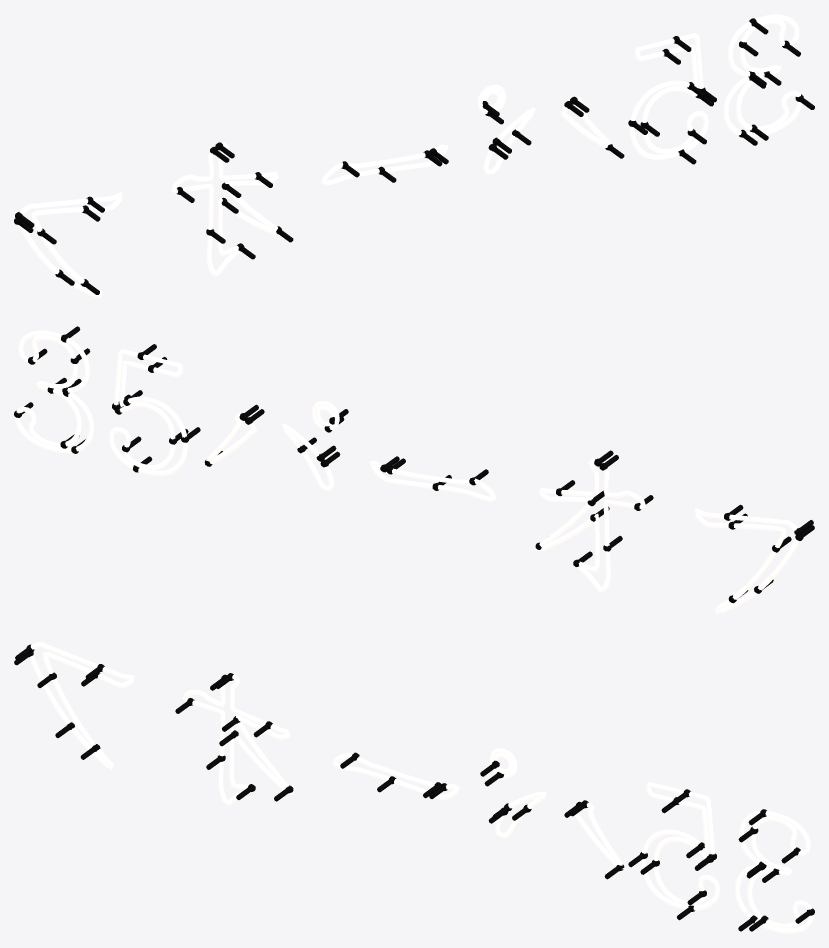
Rendered from neon_35off.fbx.
3 renders of one model, top to bottom at view 1: azimuth 30°, elevation 25°; view 2: azimuth 150°, elevation 25°; view 3: azimuth 330°, elevation 25°, orthographic.
Visible parts, largest first — view 1: NeonEnglish; view 2: NeonEnglish; view 3: NeonEnglish.
Part boxes in pixels (bbox=[...]): NeonEnglish: bbox=[14, 14, 814, 297]; NeonEnglish: bbox=[14, 326, 814, 613]; NeonEnglish: bbox=[14, 642, 814, 933].
Bounding box in the file's own units: 645 × 104 × 21.29.
